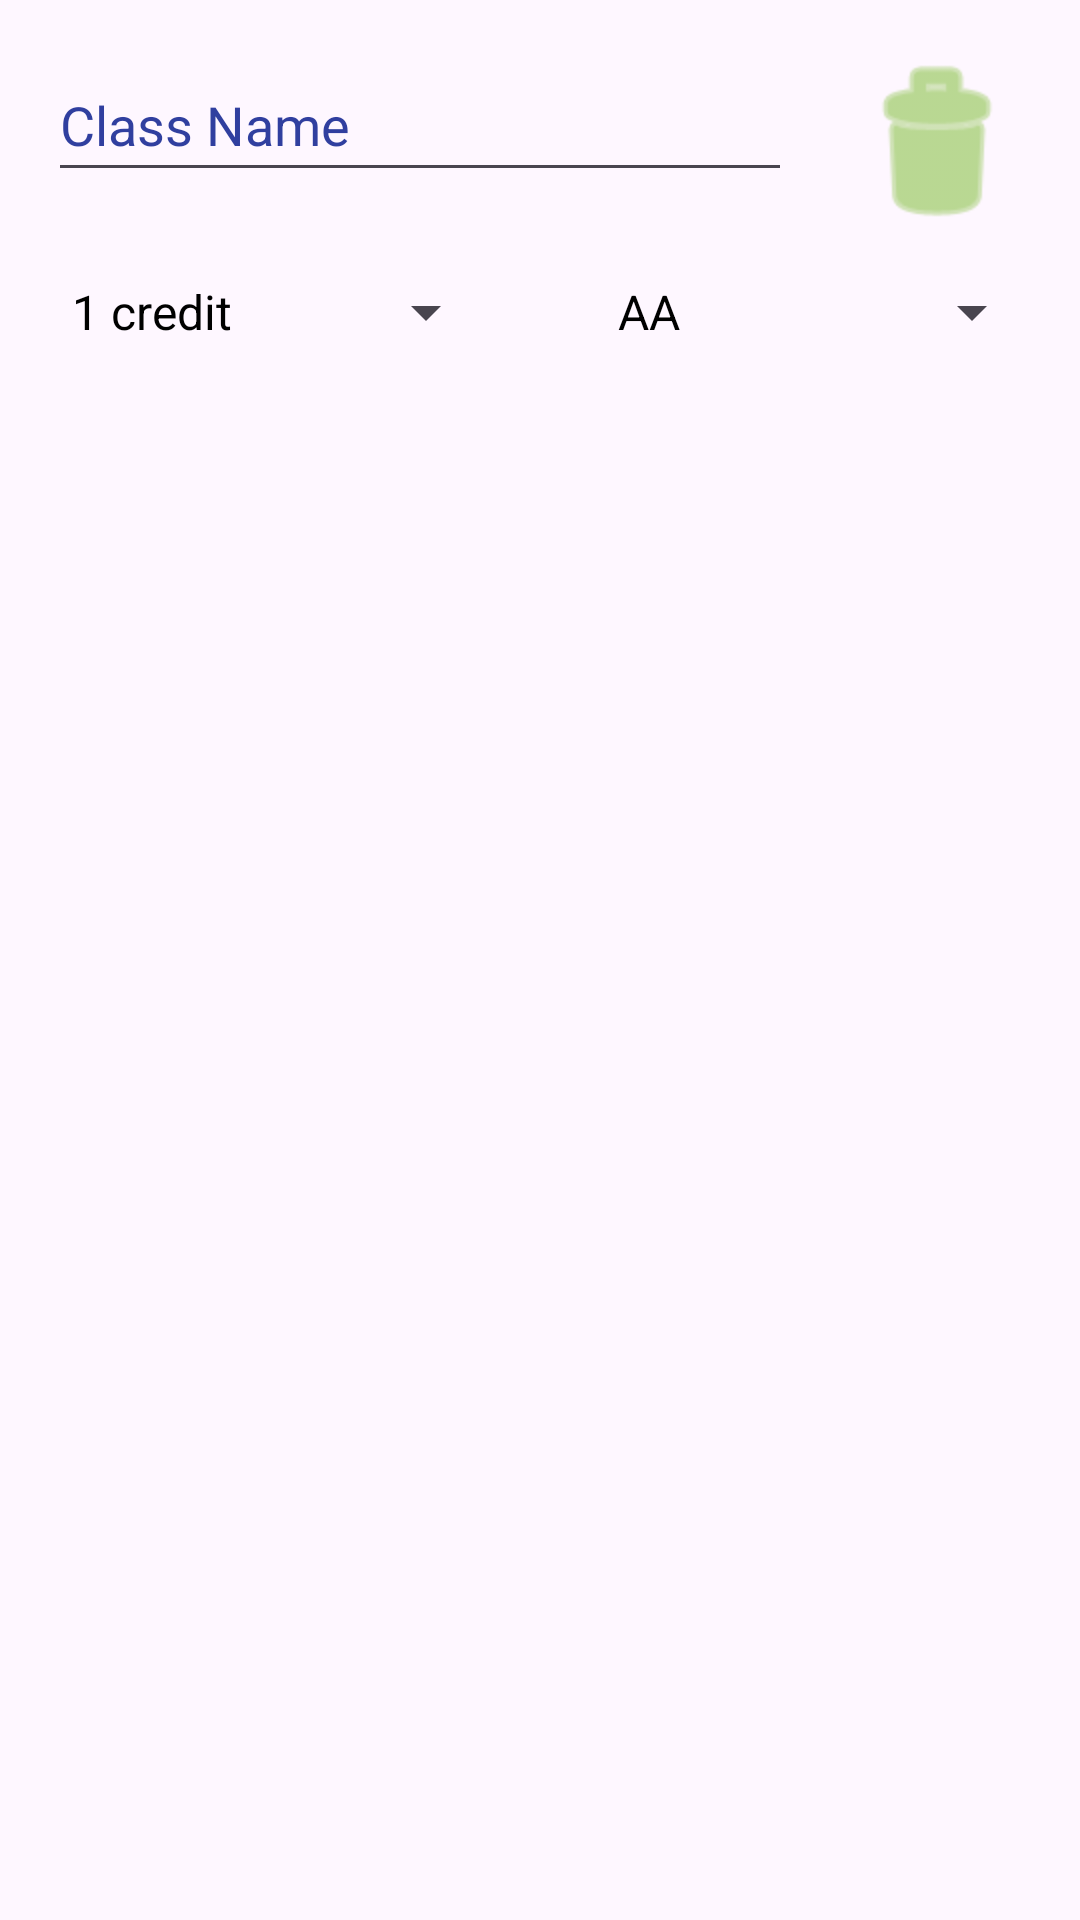

Locate icon controls on the screen. Image size 1080px×1920px, boxes as bbox=[x1, y1, x2, y2].
Delete: bbox=[883, 66, 991, 216]
